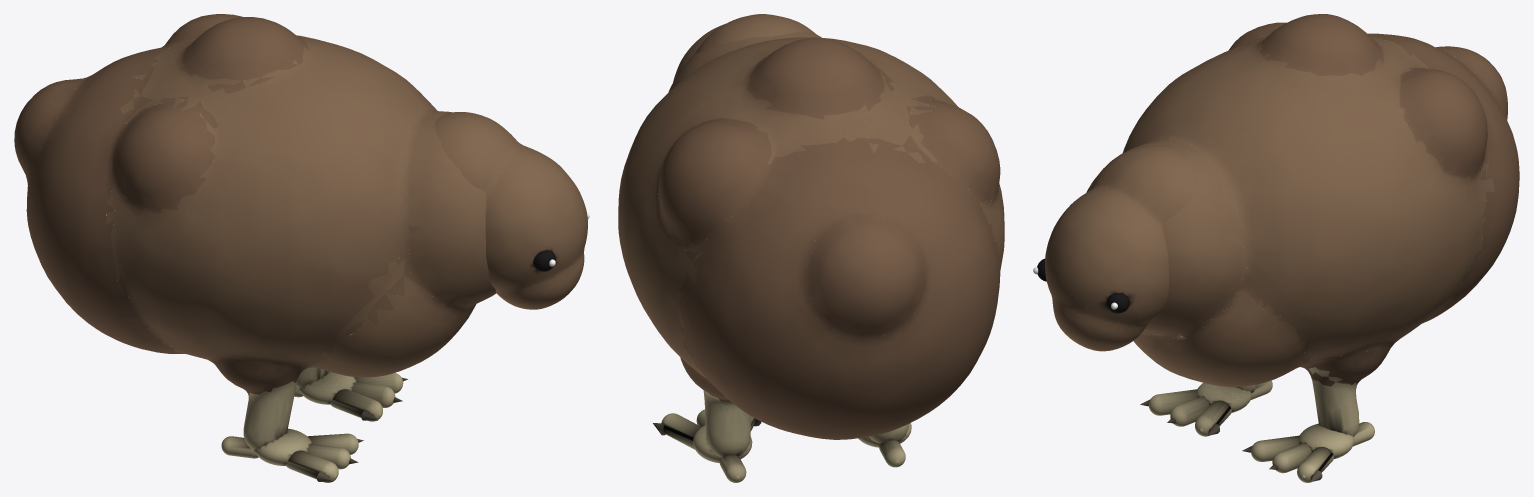
The model's file is kan-du-visa-mig-pa-kartan.glb.
3 renders of one model, left to right at view 1: azimuth 30°, elevation 25°; view 2: azimuth 150°, elevation 25°; view 3: azimuth 270°, elevation 25°, orthographic. The views are drawn at different scales.
Parts seen in each view (by area): view 1: kiwi__r0, cabeca__r0, kiwi__r1, kiwi__r9, kiwi__r10, kiwi__r2, kiwi__r6, kiwi__r12, kiwi__r4; view 2: kiwi__r0, cabeca__r0, kiwi__r14, kiwi__r9, kiwi__r16, kiwi__r8; view 3: kiwi__r0, cabeca__r0, kiwi__r9, kiwi__r1, kiwi__r10, kiwi__r2, kiwi__r14, kiwi__r6, kiwi__r12, kiwi__r4.
Boxes of the visible parts, left/top/right/bottom form: kiwi__r0: left=14, top=14, right=496, bottom=450; cabeca__r0: left=434, top=112, right=587, bottom=309; kiwi__r1: left=254, top=428, right=312, bottom=465; kiwi__r9: left=298, top=371, right=356, bottom=404; kiwi__r10: left=330, top=389, right=382, bottom=421; kiwi__r2: left=285, top=450, right=338, bottom=482; kiwi__r6: left=307, top=433, right=358, bottom=454; kiwi__r12: left=352, top=382, right=395, bottom=407; kiwi__r4: left=307, top=444, right=350, bottom=469; kiwi__r0: left=618, top=31, right=1004, bottom=457; cabeca__r0: left=673, top=14, right=815, bottom=82; kiwi__r14: left=661, top=413, right=701, bottom=449; kiwi__r9: left=693, top=425, right=752, bottom=462; kiwi__r16: left=719, top=455, right=746, bottom=482; kiwi__r8: left=879, top=440, right=905, bottom=467; kiwi__r0: left=1086, top=14, right=1519, bottom=436; cabeca__r0: left=1045, top=145, right=1196, bottom=351; kiwi__r9: left=1299, top=423, right=1354, bottom=458; kiwi__r1: left=1197, top=383, right=1251, bottom=412; kiwi__r10: left=1251, top=435, right=1299, bottom=461; kiwi__r2: left=1148, top=389, right=1197, bottom=415; kiwi__r14: left=1297, top=446, right=1334, bottom=482; kiwi__r6: left=1195, top=400, right=1231, bottom=436; kiwi__r12: left=1272, top=443, right=1311, bottom=473; kiwi__r4: left=1170, top=397, right=1209, bottom=426.
Bounding box in the file's own units: 1.73 × 1.6 × 1.78.
